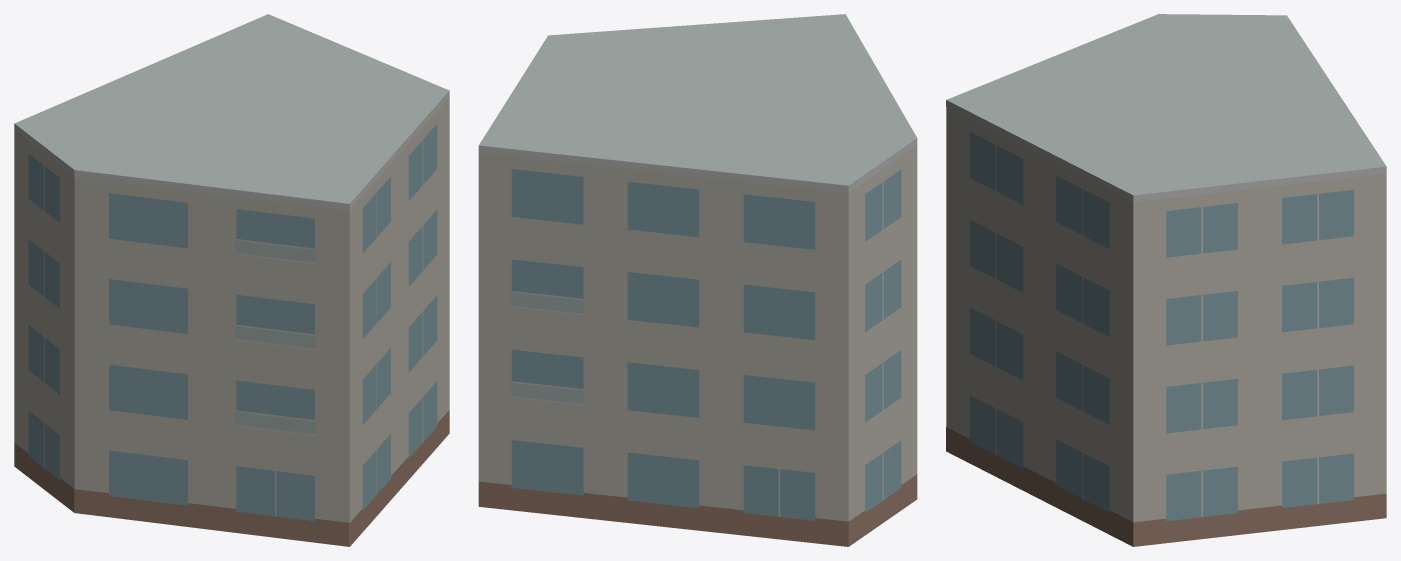
Rendered from residential-1e52e2a3-1c90-4a88-a85b-402af2c5b80f.glb.
3 renders of one model, left to right at view 1: azimuth 30°, elevation 25°; view 2: azimuth 150°, elevation 25°; view 3: azimuth 270°, elevation 25°, orthographic. The views are drawn at different scales.
Visible parts, largest first — view 1: residential-1e52e2a3-1c90-4a88-a85b-402af2c5b80f.tmp; view 2: residential-1e52e2a3-1c90-4a88-a85b-402af2c5b80f.tmp; view 3: residential-1e52e2a3-1c90-4a88-a85b-402af2c5b80f.tmp.
Part boxes in pixels (<box>): residential-1e52e2a3-1c90-4a88-a85b-402af2c5b80f.tmp: <box>14,14,449,546</box>; residential-1e52e2a3-1c90-4a88-a85b-402af2c5b80f.tmp: <box>478,14,917,546</box>; residential-1e52e2a3-1c90-4a88-a85b-402af2c5b80f.tmp: <box>946,14,1386,546</box>.
Bounding box in the file's own units: 13.51 × 12.2 × 13.87.
